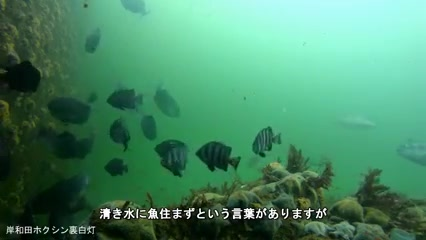ishidai: (201, 143, 239, 178), (163, 144, 195, 178), (251, 130, 278, 154)
smallfish: (103, 83, 144, 114)
